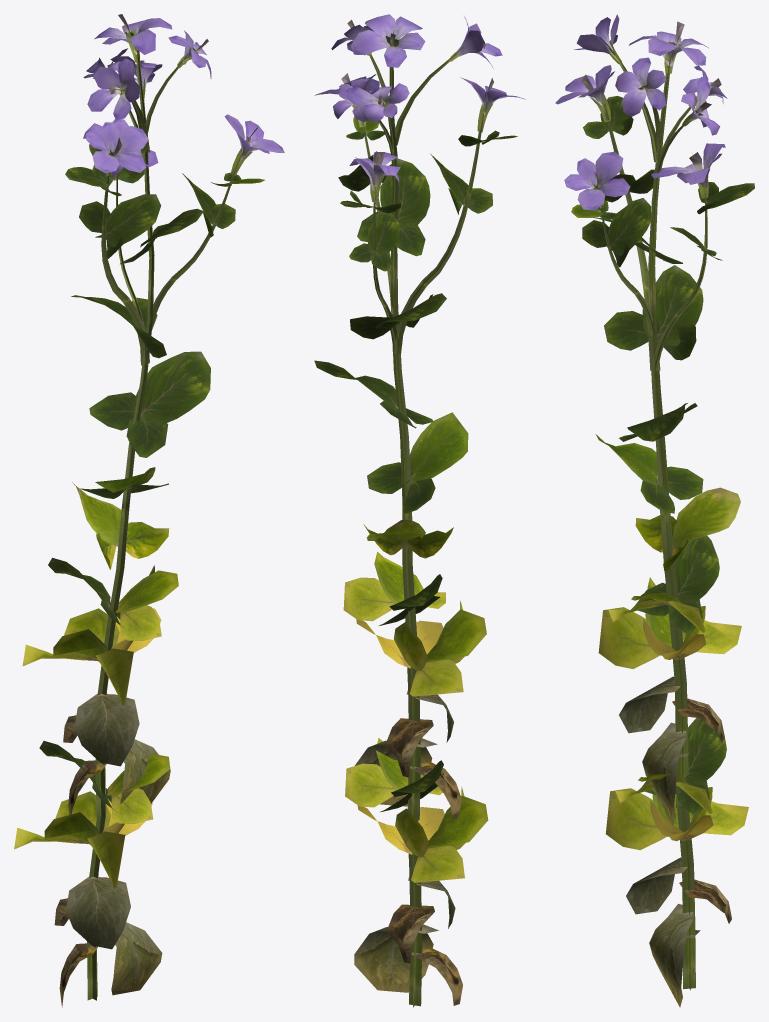
Rendered from Periwinkle_bush_long_purple.glb.
3 renders of one model, left to right at view 1: azimuth 30°, elevation 25°; view 2: azimuth 150°, elevation 25°; view 3: azimuth 270°, elevation 25°, orthographic.
Visible parts, largest first — view 1: _b868_Var1_LOD1.2; view 2: _b868_Var1_LOD1.2; view 3: _b868_Var1_LOD1.2.
Part boxes in pixels (x1=…): _b868_Var1_LOD1.2: x1=14, y1=14, x2=284, y2=1007; _b868_Var1_LOD1.2: x1=314, y1=14, x2=525, y2=1007; _b868_Var1_LOD1.2: x1=555, y1=14, x2=754, y2=1007.
Bounding box in the file's own units: 0.7607 × 3.45 × 0.6398.
1 material, 1 textured.
